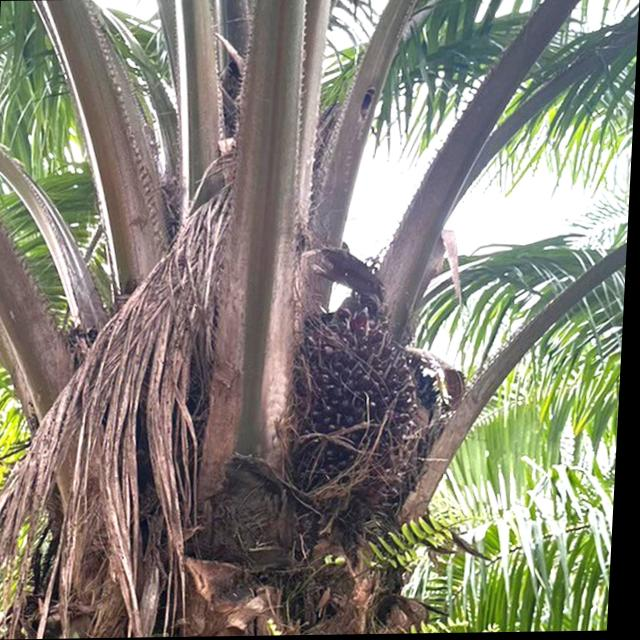ripe: (284, 301, 444, 499)
